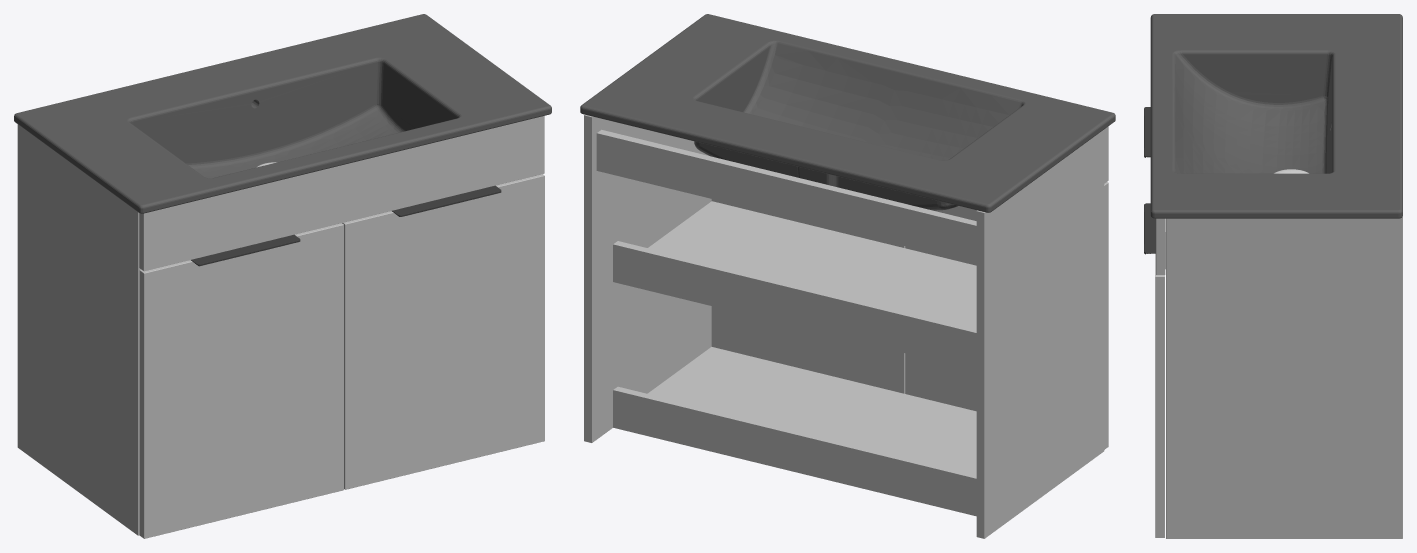
Rendered from AEC_47543.glb.
The picture shows the model from 3 angles, left to right: view 1: azimuth 30°, elevation 25°; view 2: azimuth 150°, elevation 25°; view 3: azimuth 270°, elevation 25°; orthographic projection.
Visible parts, largest first — view 1: 0; view 2: 0; view 3: 0.
Part boxes in pixels (x1,y1,x2,y2): 0: [14, 14, 551, 538]; 0: [580, 14, 1115, 538]; 0: [1144, 14, 1402, 538].
Bounding box in the file's own units: 0.8 × 0.622 × 0.4414.
Materials: 1 (1 with a texture image).
